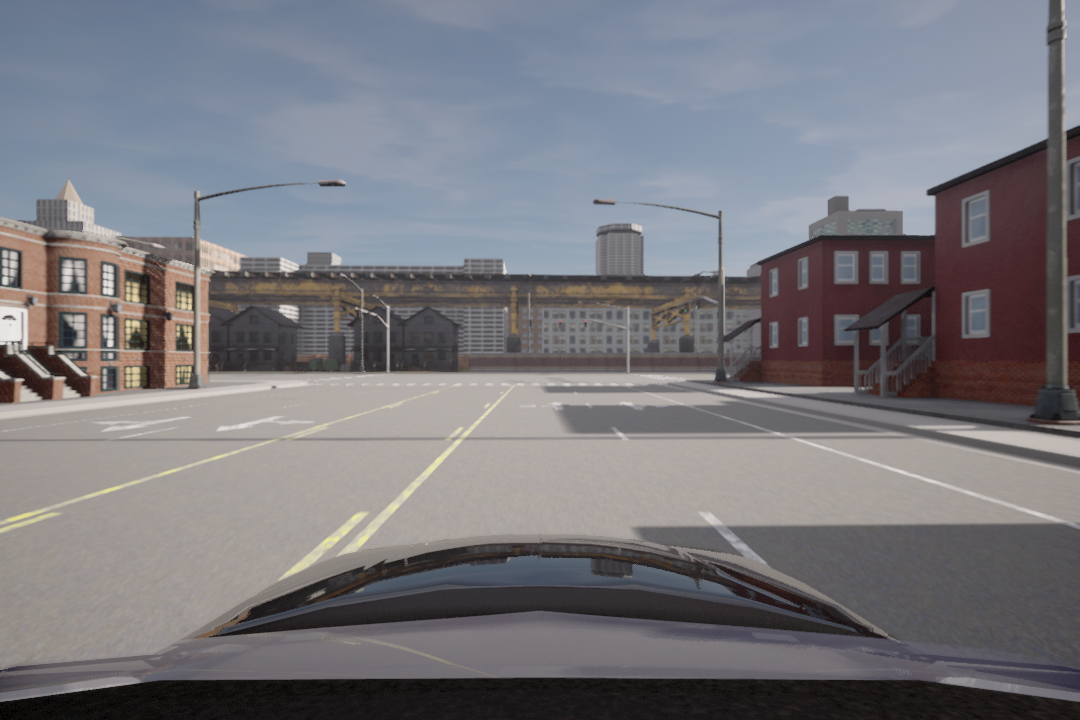RoadSign_forward_left: (212, 411, 319, 434)
RoadSign_forward_right: (94, 414, 191, 433)
